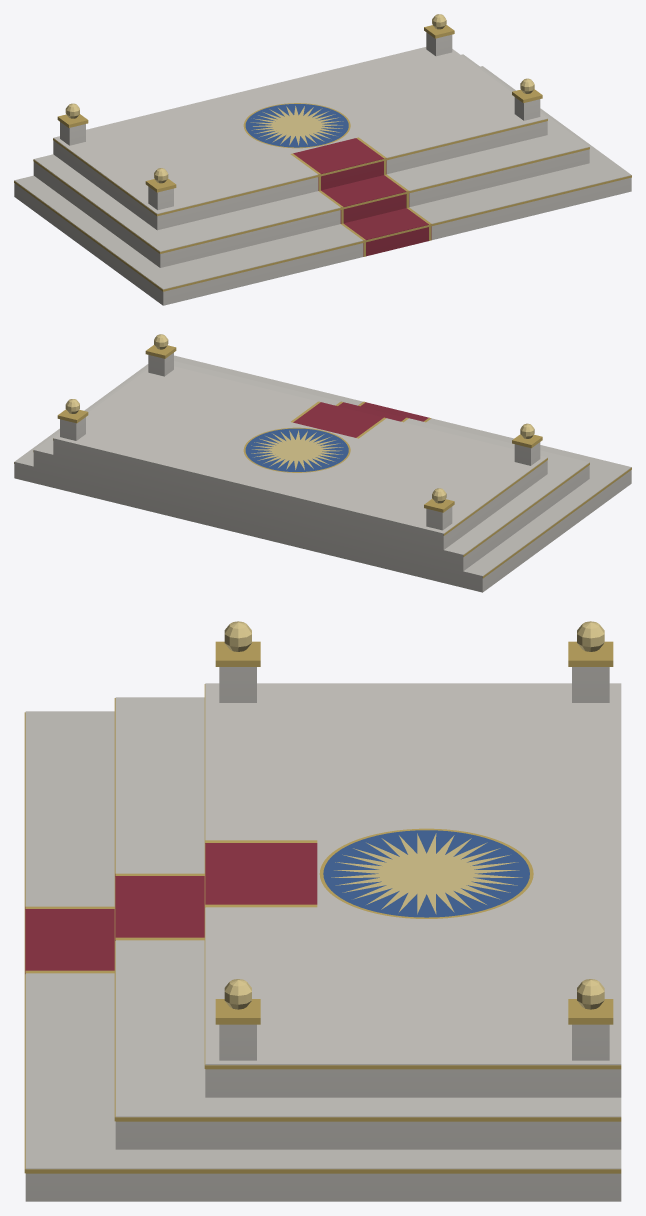
File: palace_dais_grand.glb
3 views of the same model, one above another, from view 1: azimuth 30°, elevation 25°; view 2: azimuth 150°, elevation 25°; view 3: azimuth 270°, elevation 25° (orthographic). The views are drawn at different scales.
Parts seen in each view (by area): view 1: palace_dais_grand; view 2: palace_dais_grand; view 3: palace_dais_grand.
Part boxes in pixels (box(x1,y1,x2,y2)): palace_dais_grand: box(14, 14, 631, 305); palace_dais_grand: box(14, 334, 631, 592); palace_dais_grand: box(24, 621, 621, 1201).
Size of the model in its own units: 8.91 by 1.56 by 4.91.
